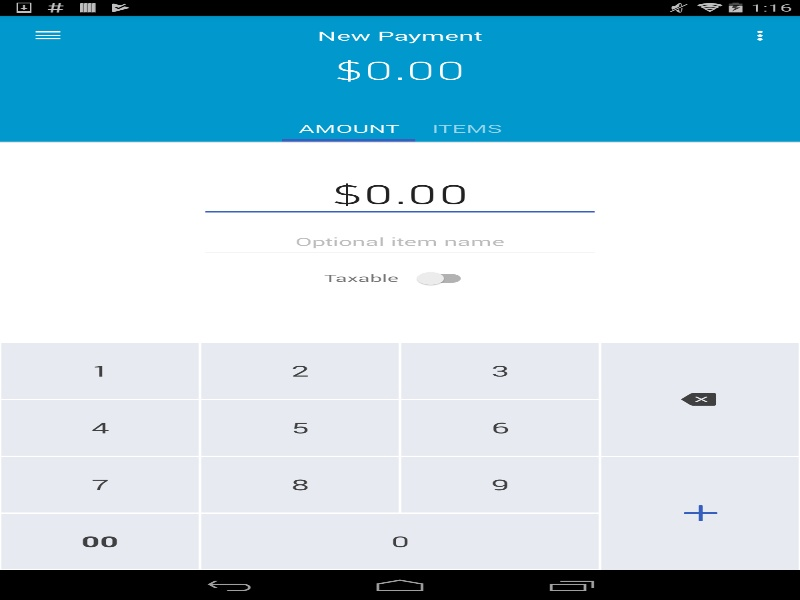Button: (10, 15, 85, 55)
Input: (200, 176, 600, 216), (200, 226, 600, 257)
